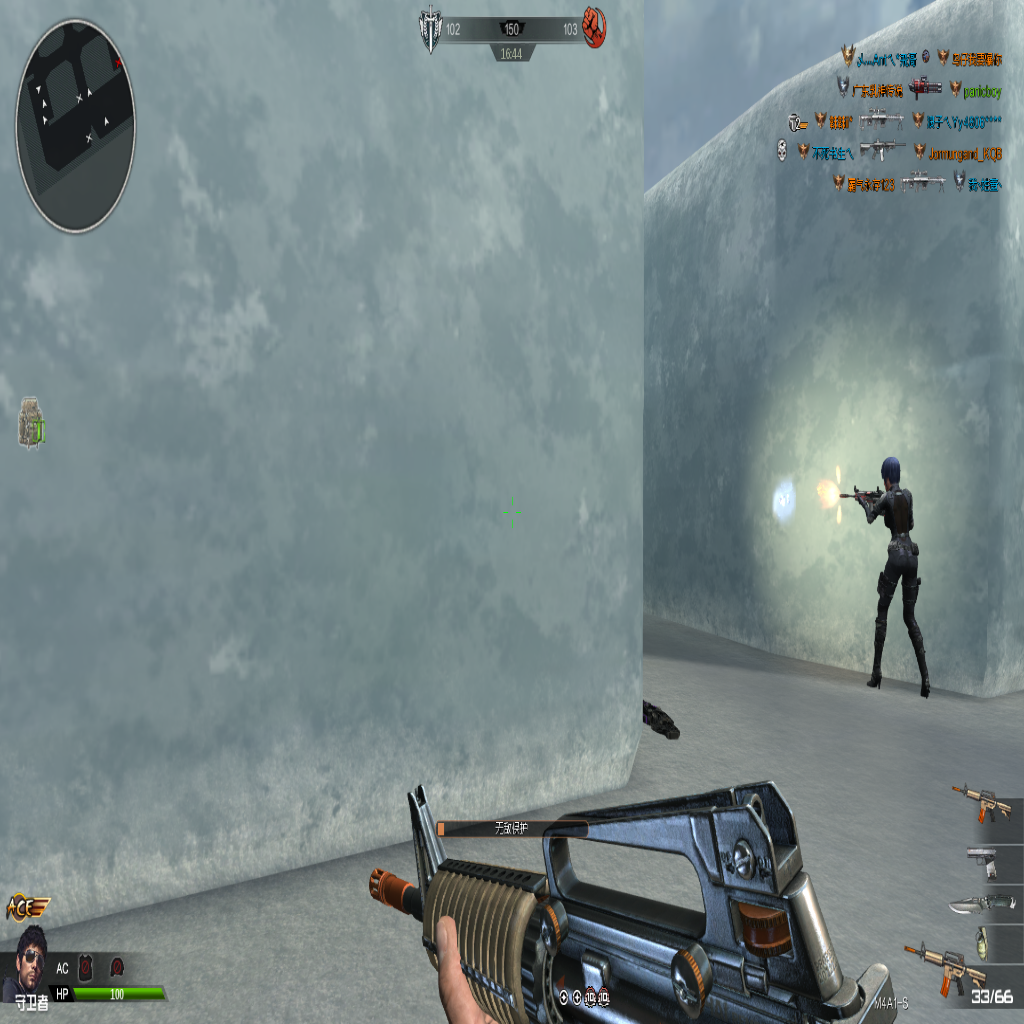ct: (850, 454, 932, 699)
